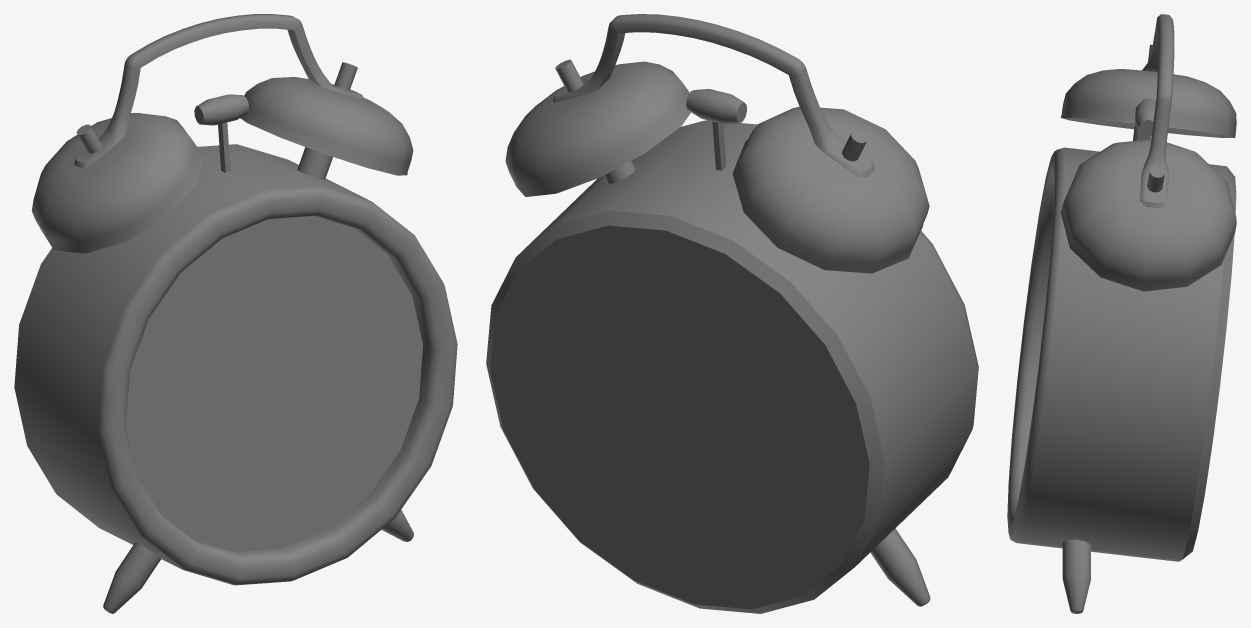
The model's file is AlarmClock.fbx.
3 renders of one model, left to right at view 1: azimuth 30°, elevation 25°; view 2: azimuth 150°, elevation 25°; view 3: azimuth 270°, elevation 25°, orthographic. The views are drawn at different scales.
Visible parts, largest first — view 1: AlarmClock_BR001_1; view 2: AlarmClock_BR001_1; view 3: AlarmClock_BR001_1.
Boxes of the visible parts, x1,y1,x2,y2 form: AlarmClock_BR001_1: [14, 14, 457, 613]; AlarmClock_BR001_1: [486, 14, 978, 613]; AlarmClock_BR001_1: [1007, 14, 1236, 613].
Size of the model in its own units: 10.53 by 14.64 by 6.01.
1 material, 1 textured.
